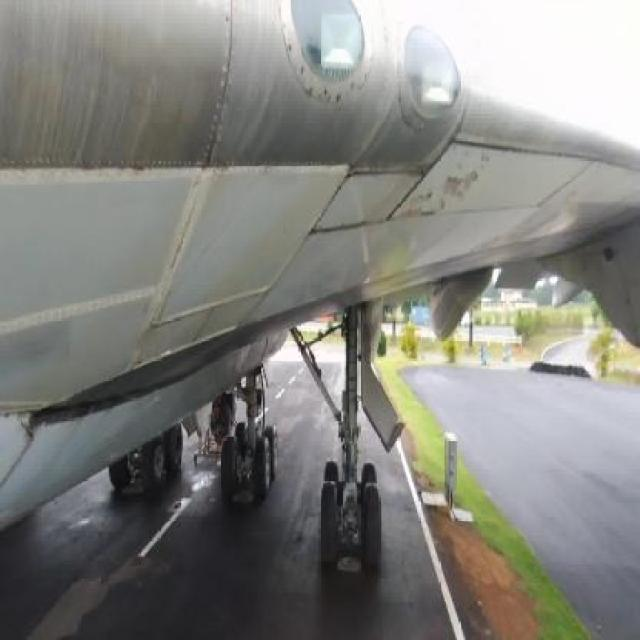Rust: (246, 107, 574, 211), (205, 122, 232, 216)
